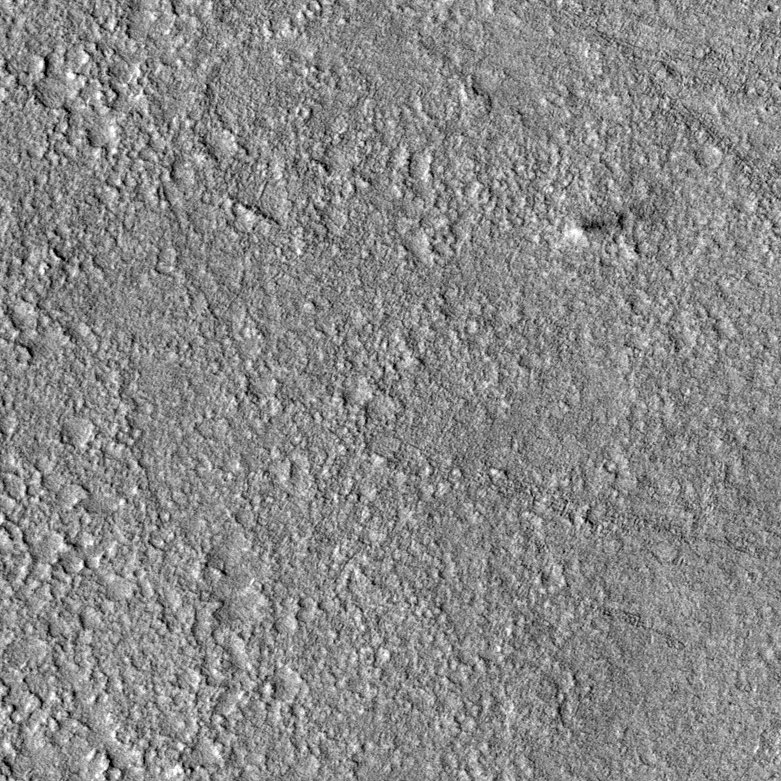dust_devil: (565, 207, 631, 240)
